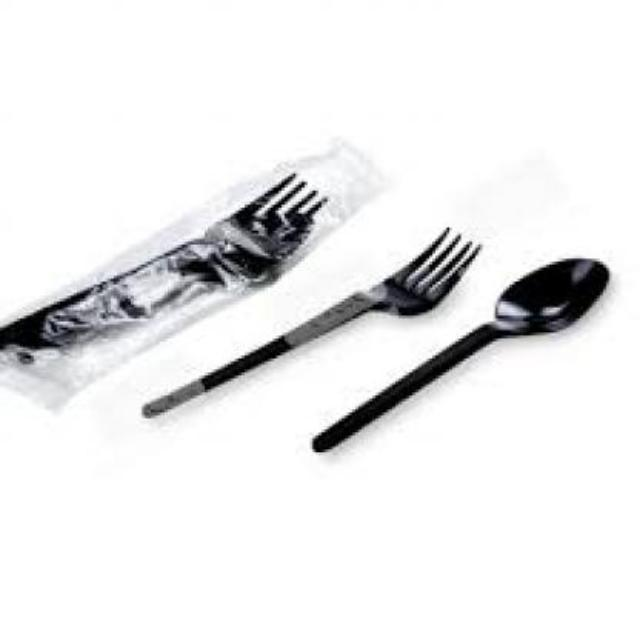plastic_cultery: (0, 174, 616, 456)
